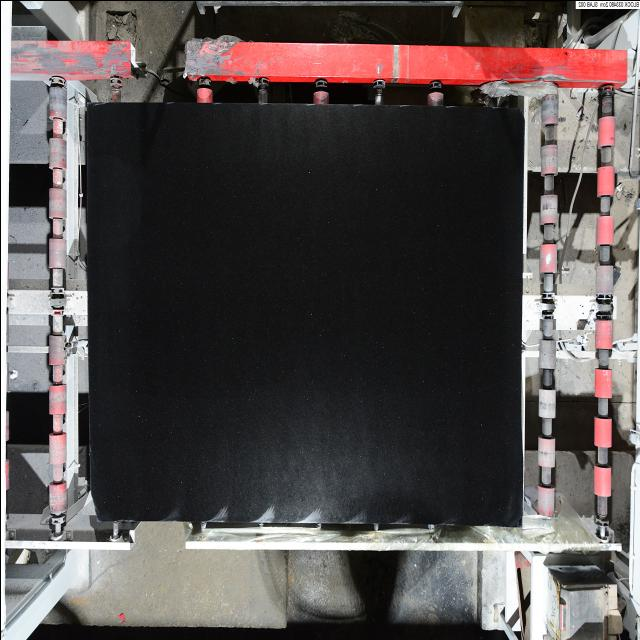chapa: (86, 103, 522, 525)
